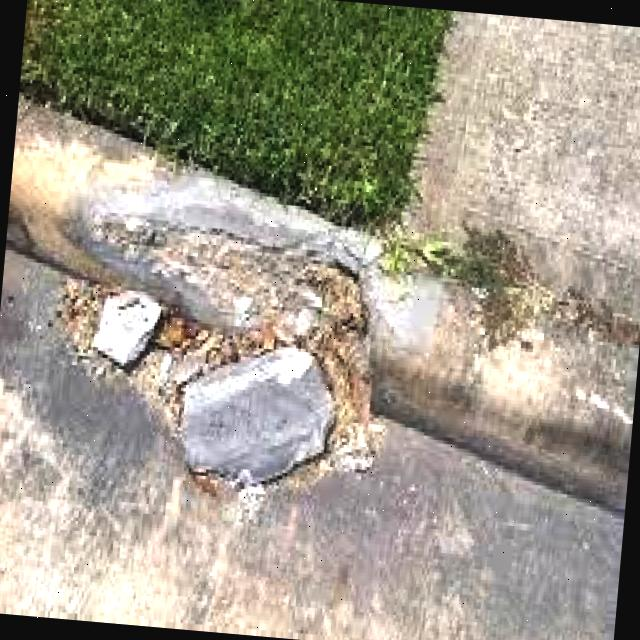curb: (11, 107, 396, 393), (328, 241, 633, 518)
